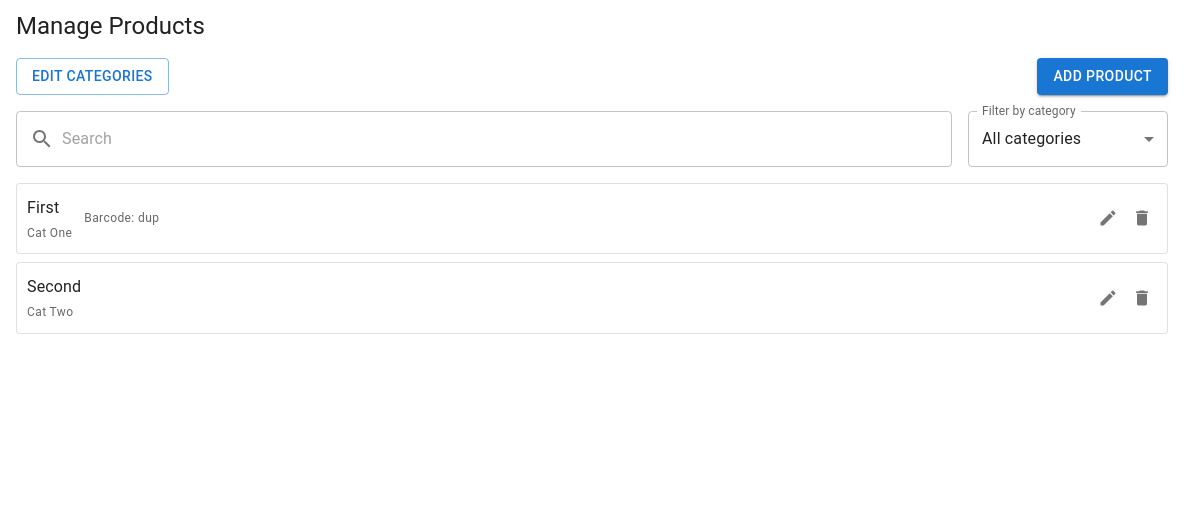
Scenario: ManageProductsScreen updateProduct › rethrows DuplicateBarcodeError for ProductRow to handle
Click the button named "edit second": (1108, 298) [1093,283,1123,313]
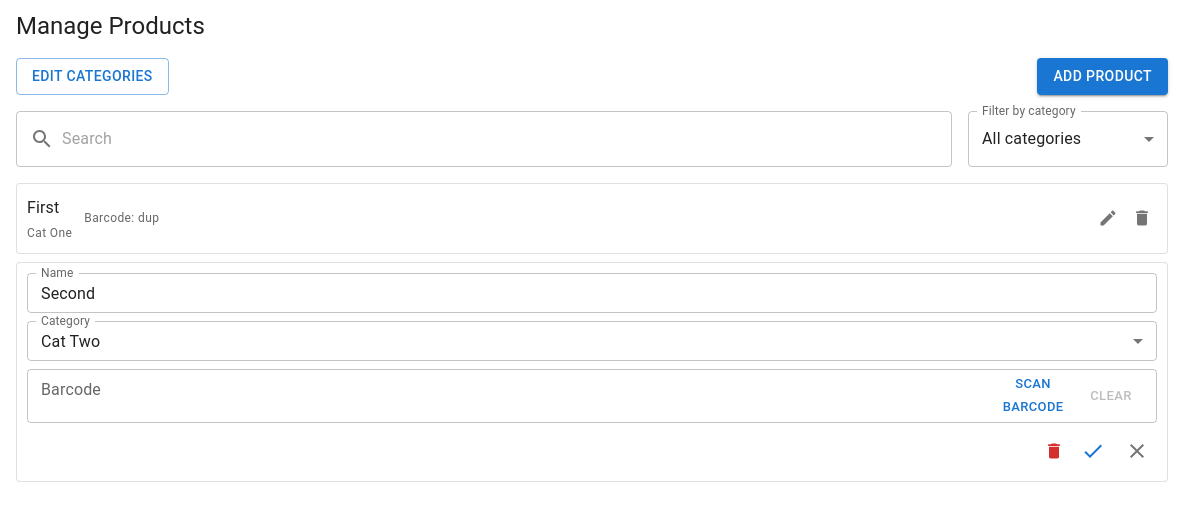
In the field labelled "Barcode": (509, 396) [27,376,991,416], type "dup"
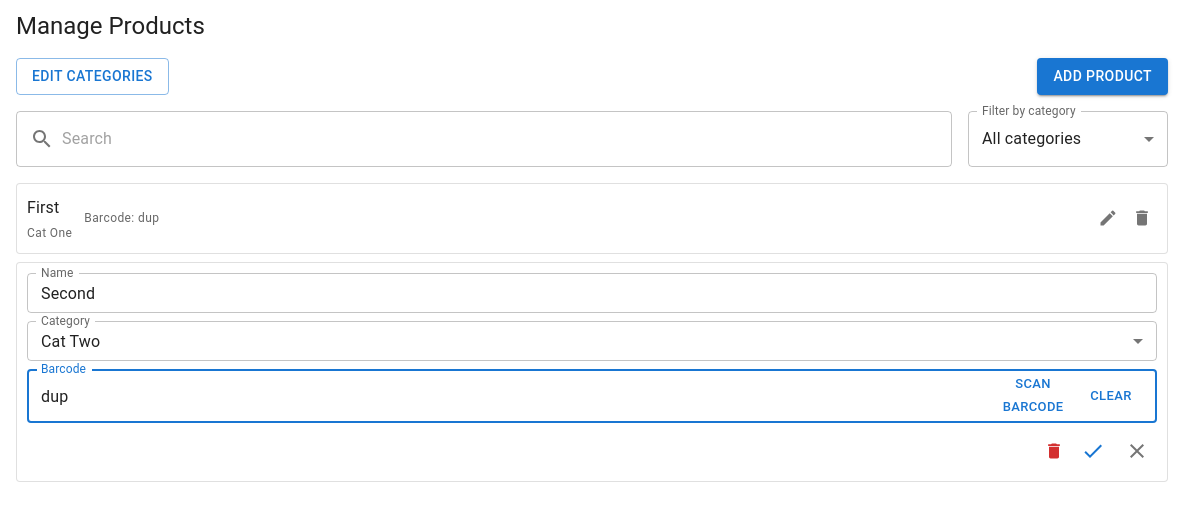
Click the button named "Save product": (1093, 451) [1073,431,1113,471]
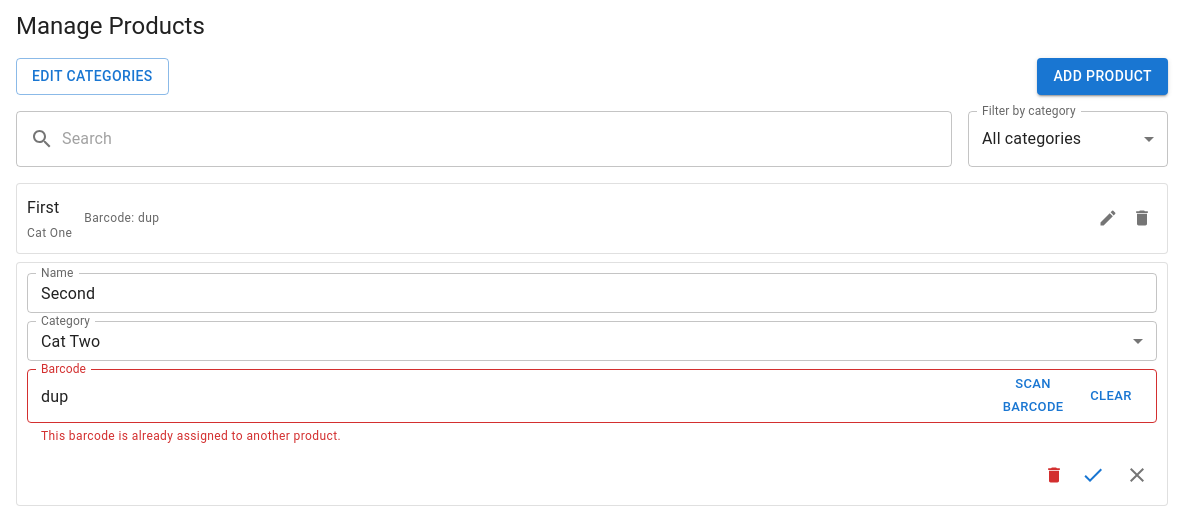
Now the text "This barcode is already assigned to another product." is shown, box [41,429,341,443]
